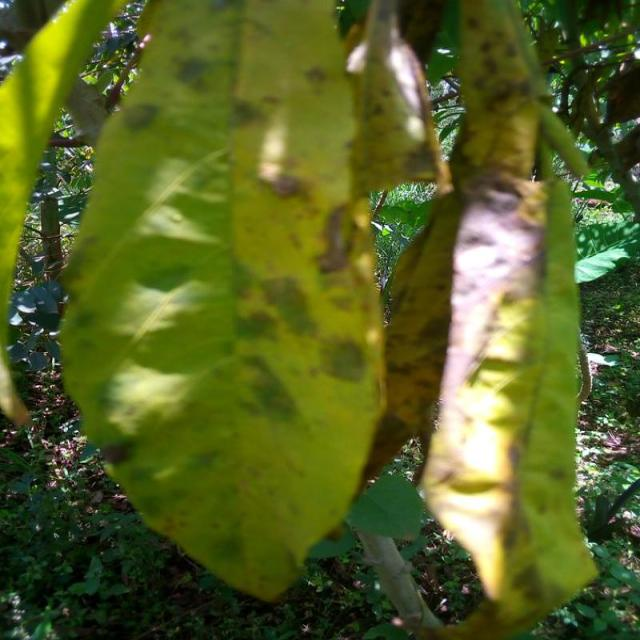cassava leaf: (58, 0, 392, 603), (416, 167, 598, 636)
